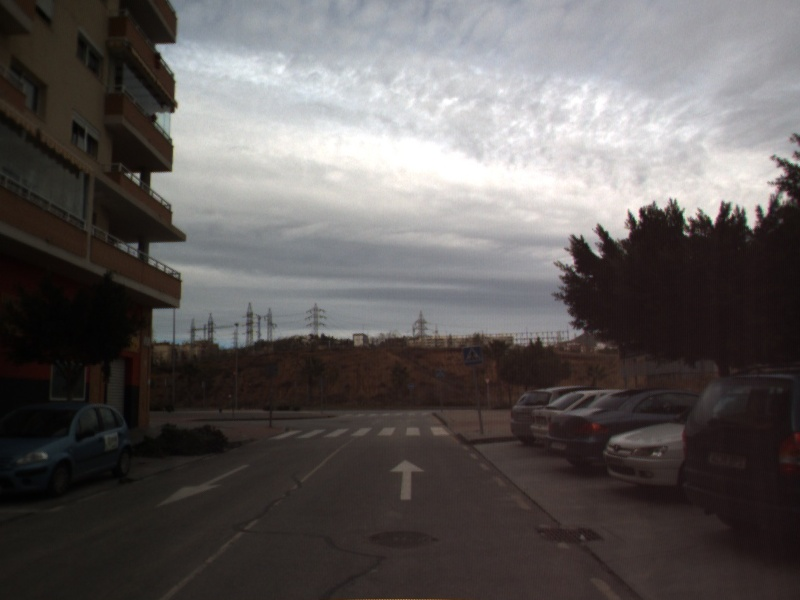STRAIGHT: (388, 457, 427, 502)
